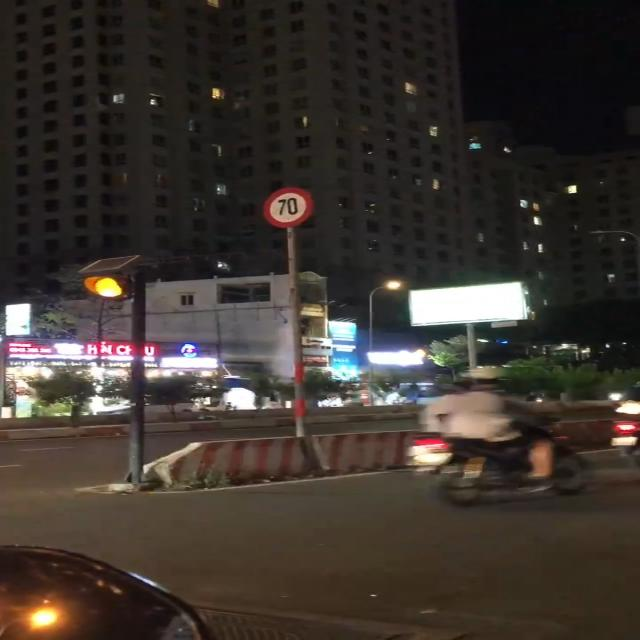Bien bao toc do toi da cho phep: (259, 184, 313, 226)
